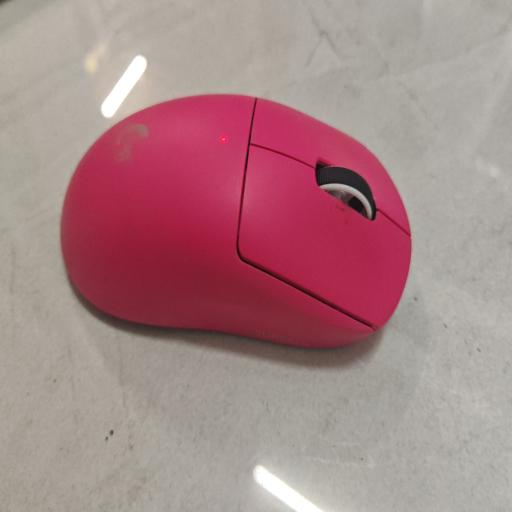mouse: (61, 95, 411, 347)
